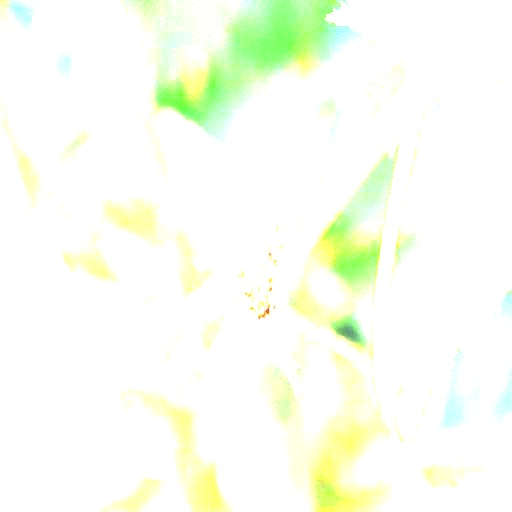Gray Mold: (178, 156, 316, 399)
